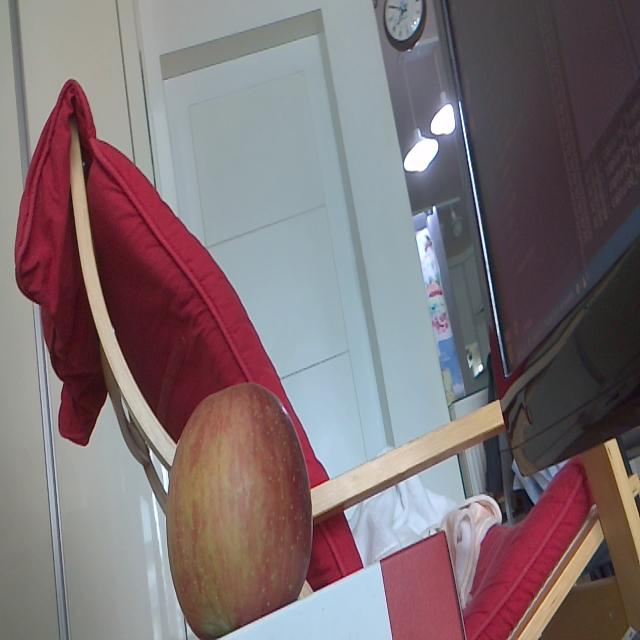apple: (169, 378, 315, 634)
